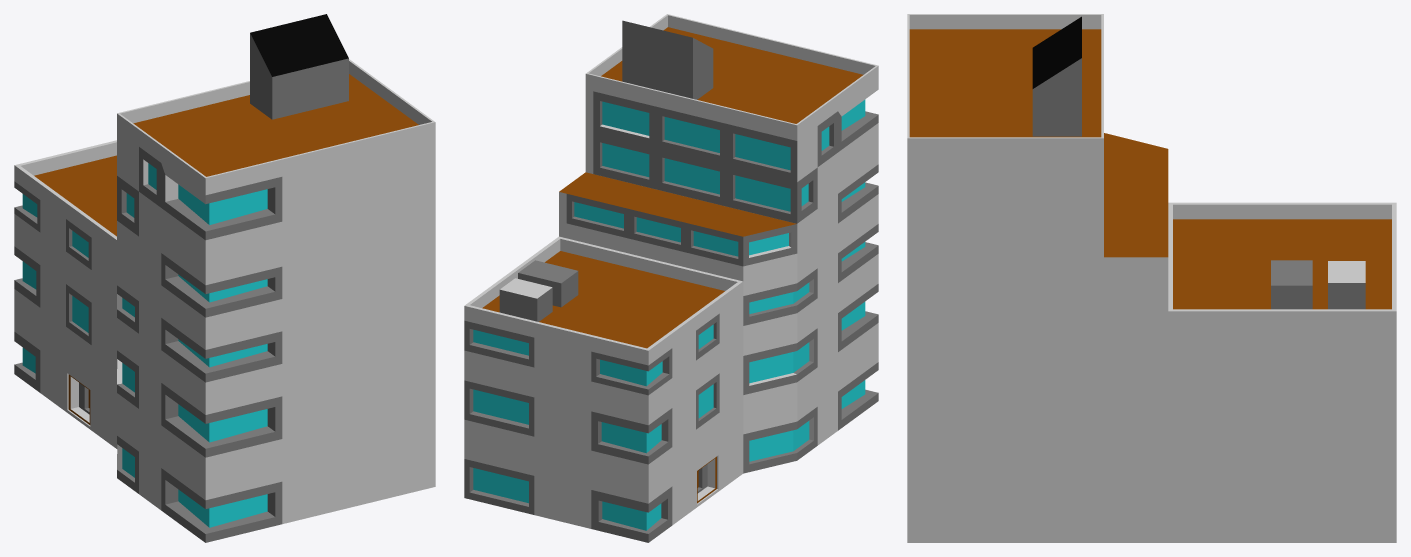
The model's file is Buildings.fbx.
3 renders of one model, left to right at view 1: azimuth 30°, elevation 25°; view 2: azimuth 150°, elevation 25°; view 3: azimuth 270°, elevation 25°, orthographic. The views are drawn at different scales.
Parts seen in each view (by area): view 1: Cube; view 2: Cube; view 3: Cube.
Boxes of the visible parts, x1,y1,x2,y2 form: Cube: (14,14,435,542); Cube: (464,14,878,542); Cube: (907,14,1396,542).
Size of the model in its own units: 2994 by 5256 by 4976.
